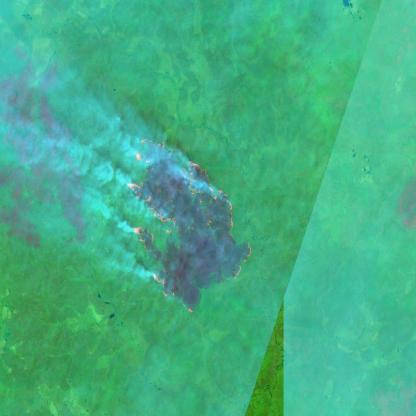fire: (125, 128, 256, 315)
